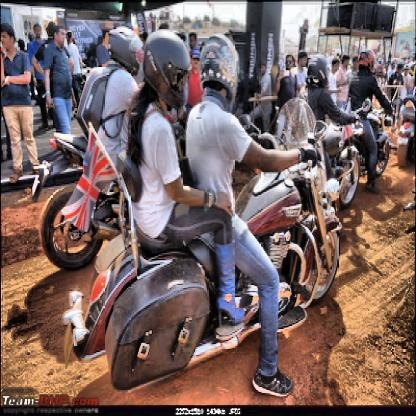wear: (144, 27, 189, 118), (200, 30, 234, 102), (106, 26, 138, 76), (308, 52, 327, 86), (355, 47, 372, 73)
